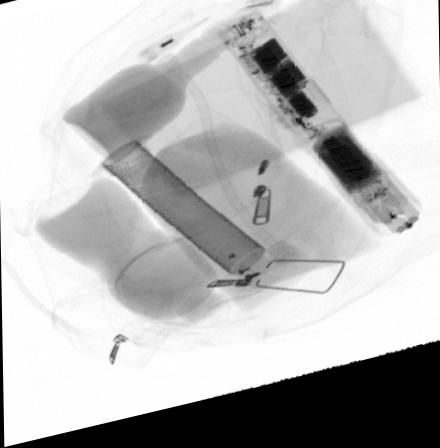Baton: (214, 20, 425, 258)
